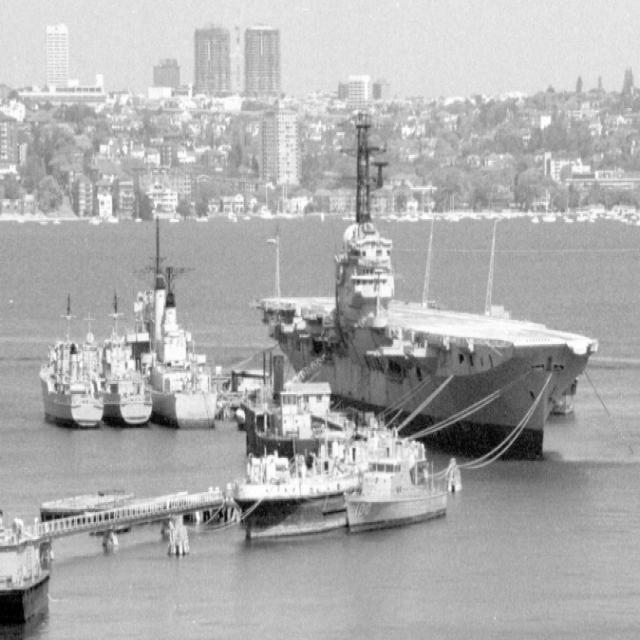Portanaves: (247, 102, 600, 467)
